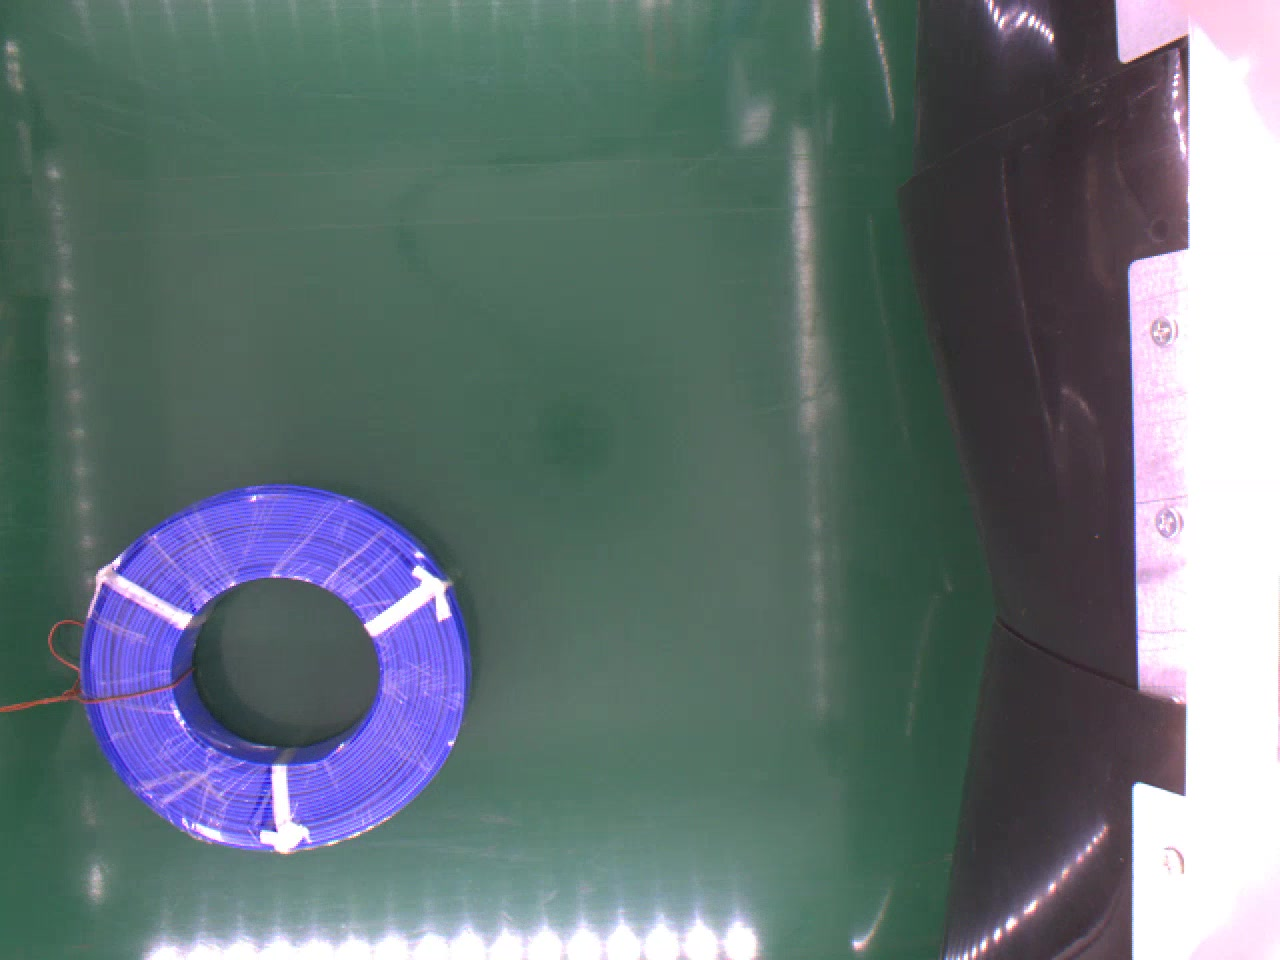blue: (77, 479, 470, 856)
